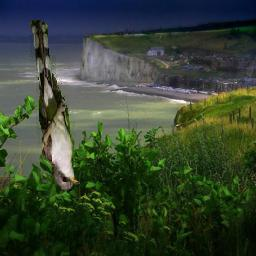Cuckoo: (30, 21, 80, 190)
